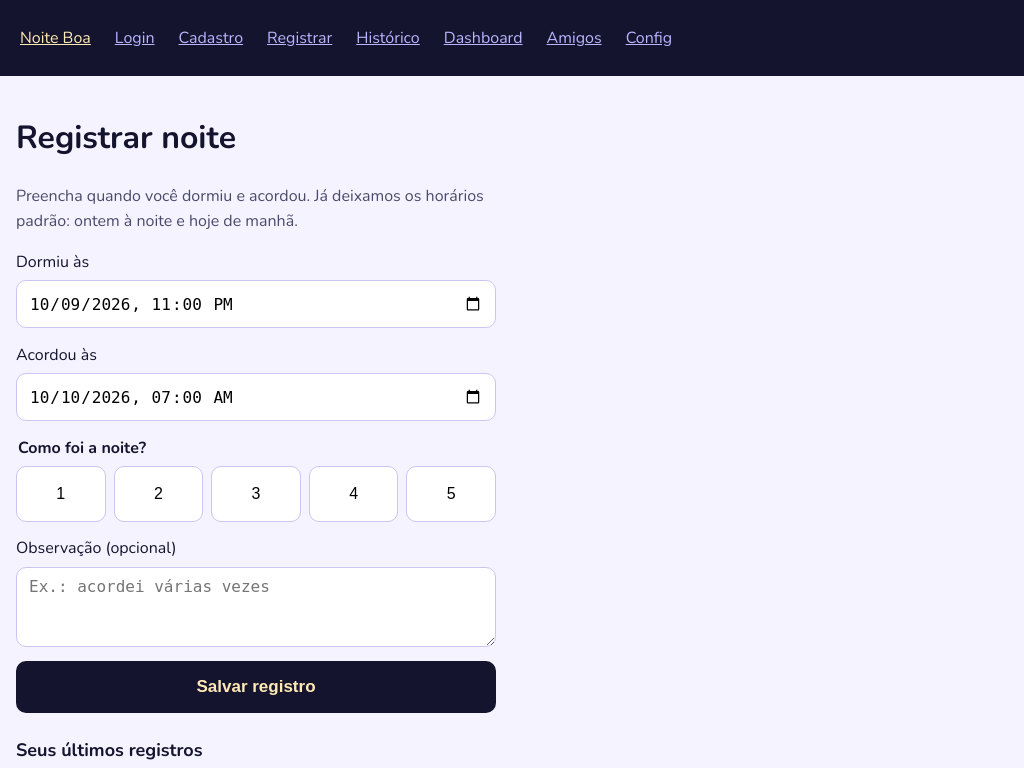
Test case: tela de Registrar sono › bloqueia acordar antes de dormir
Replace the text in the field labelled "Dormiu às" with "2026-10-08T08:00" at (256, 304), box x1=16 y1=280 x2=496 y2=328
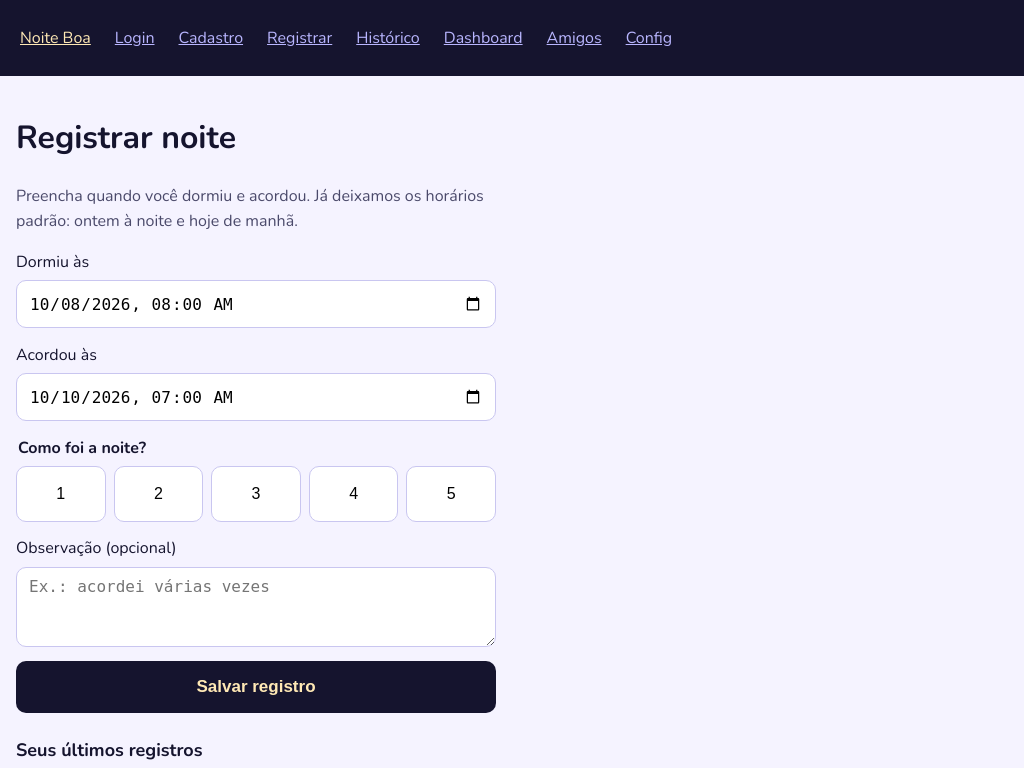
Replace the text in the field labelled "Acordou às" with "2026-10-08T07:00" at (256, 397), box x1=16 y1=373 x2=496 y2=421
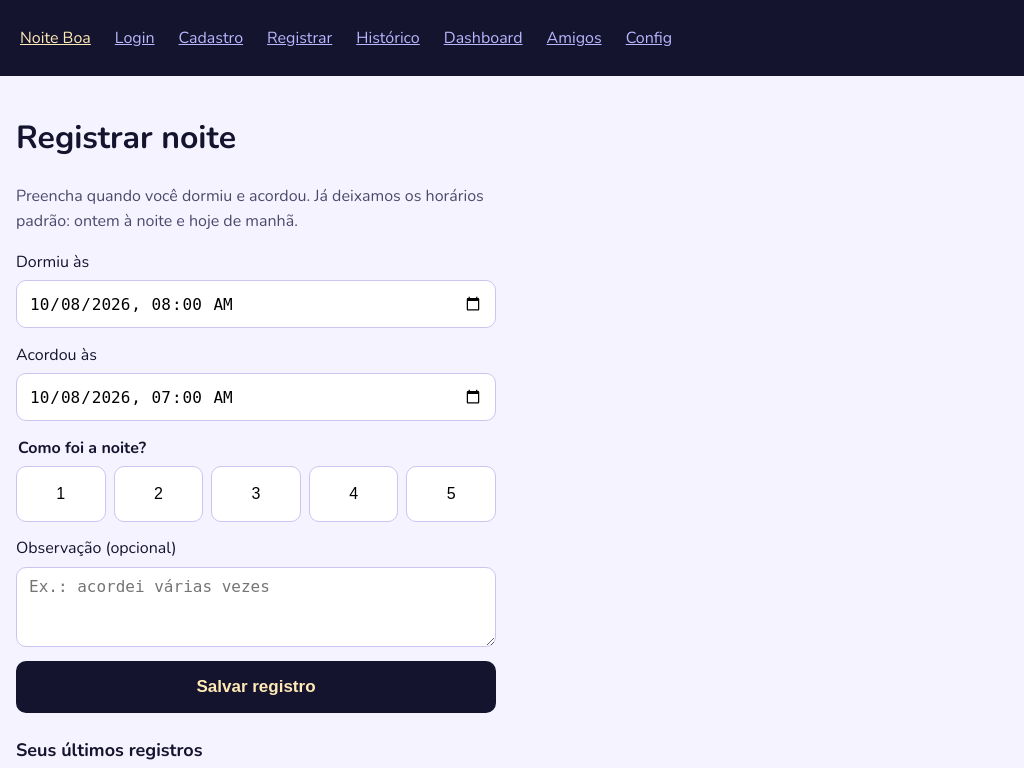
Click the button "Salvar registro".
click(256, 687)  # box x1=16 y1=661 x2=496 y2=713
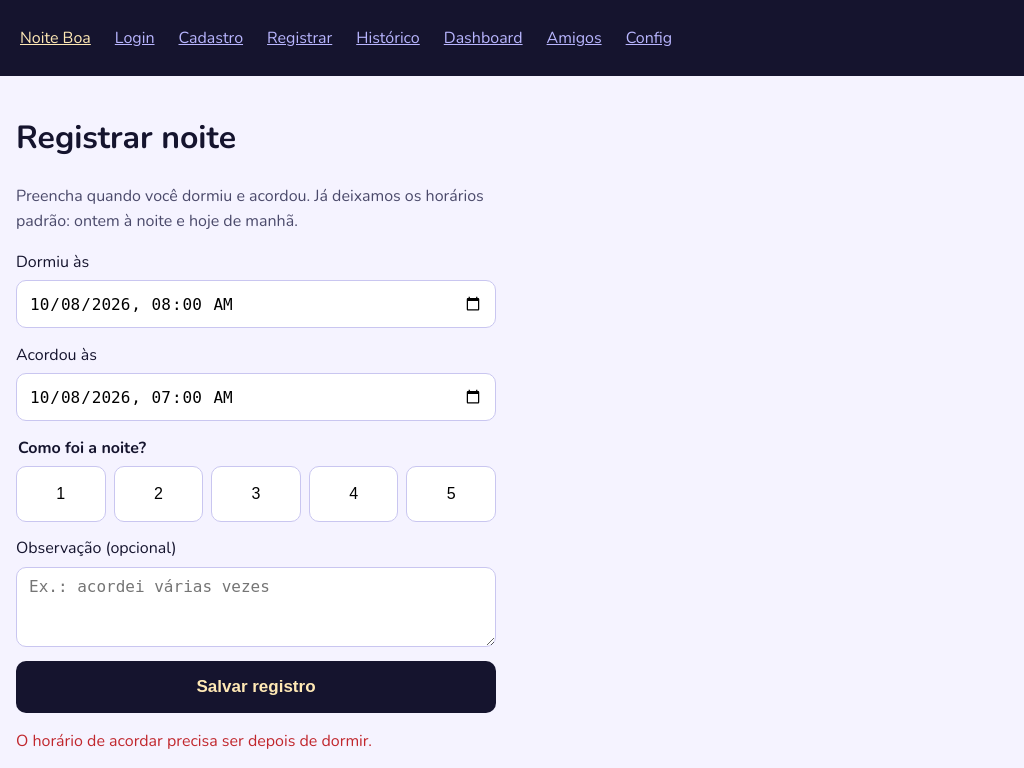
Result: the message shows "depois de dormir" at x1=16 y1=730 x2=372 y2=752
